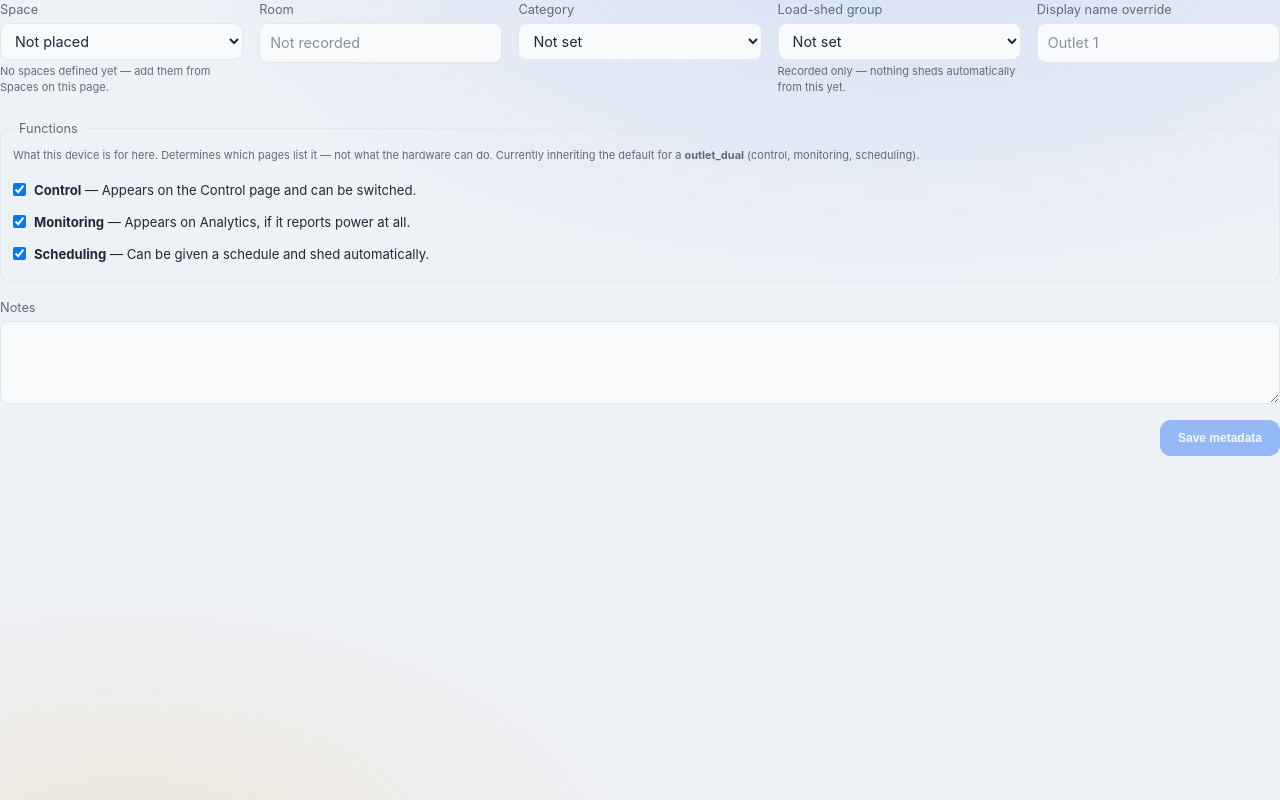
DeviceMetaEditor › shows the store save error inline when the write fails
In the field labelled "Room": (381, 43) x1=259 y1=23 x2=502 y2=63, type "Lab 2"
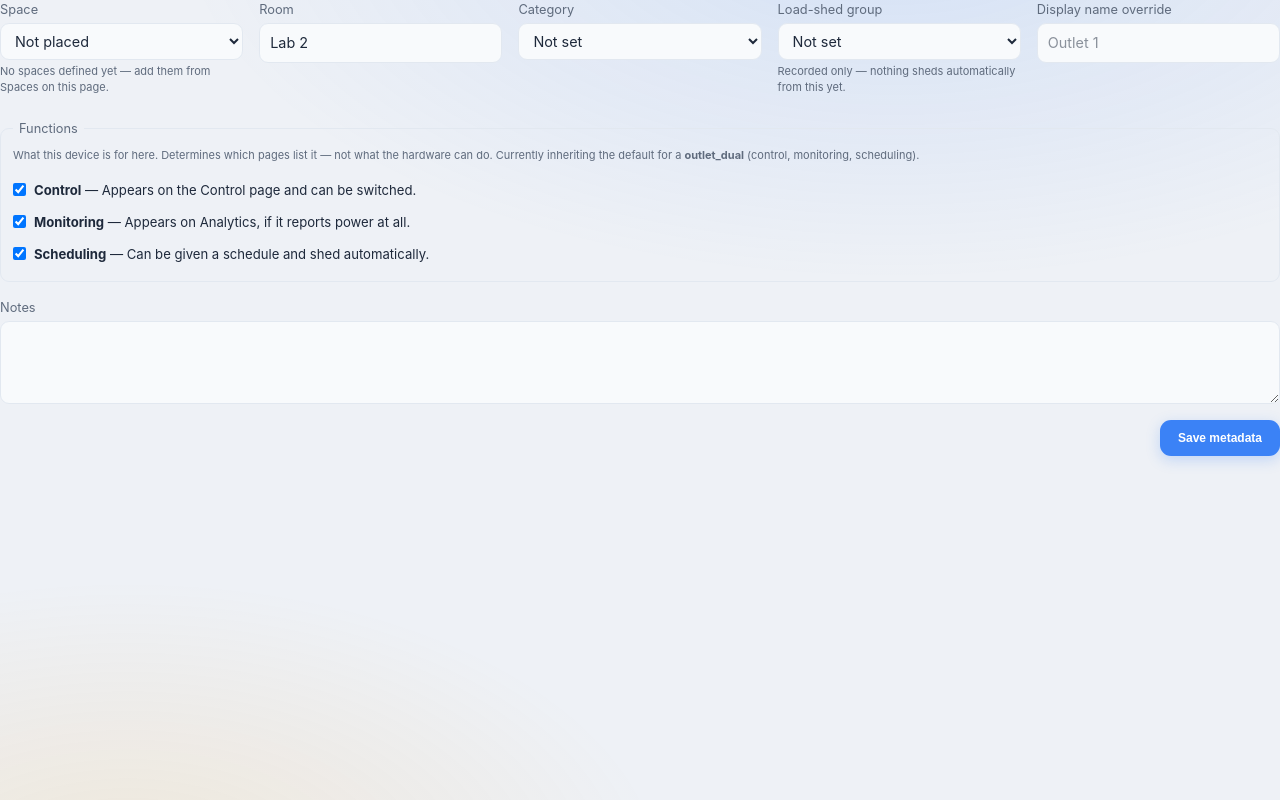
Click the button "Save metadata": (1220, 438) x1=1160 y1=420 x2=1279 y2=456
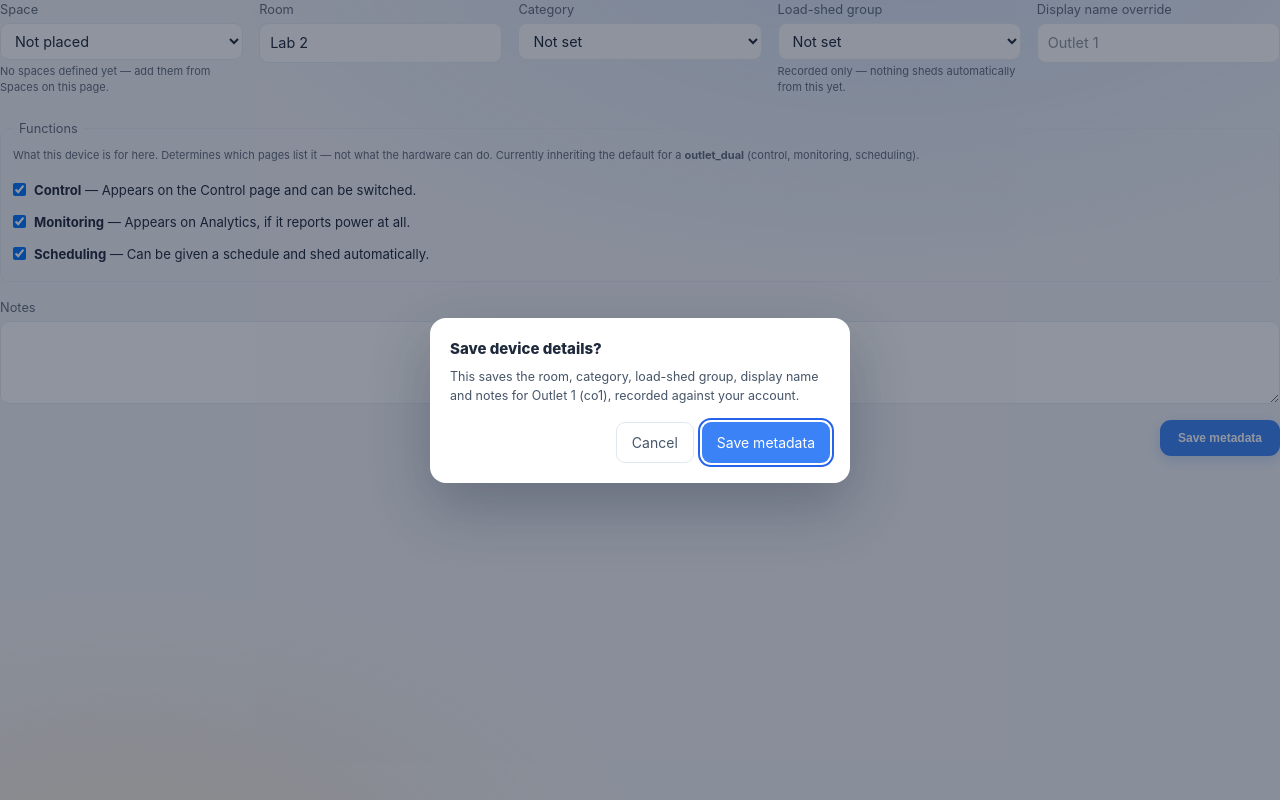
Click the button "Save metadata": (766, 442) x1=702 y1=422 x2=830 y2=462
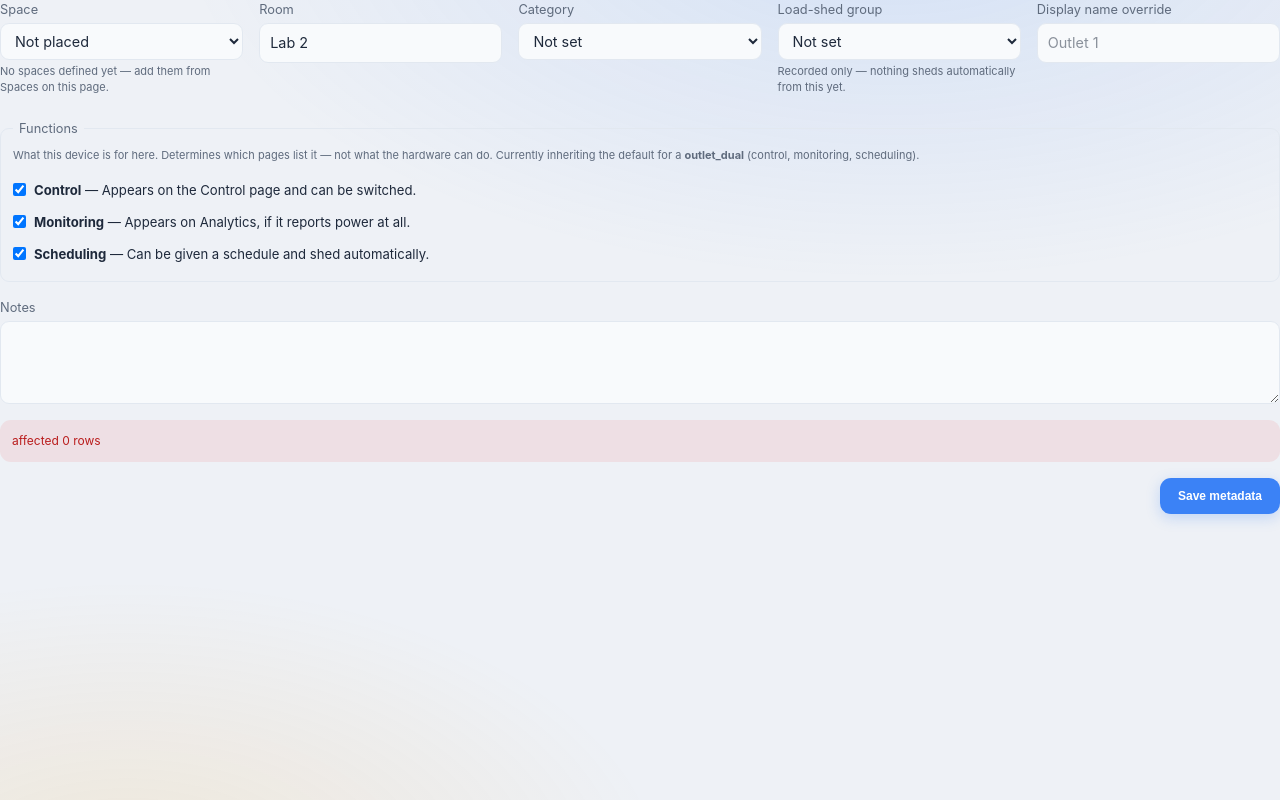
Expected: the message reads "affected 0 rows", x1=12 y1=433 x2=101 y2=448
